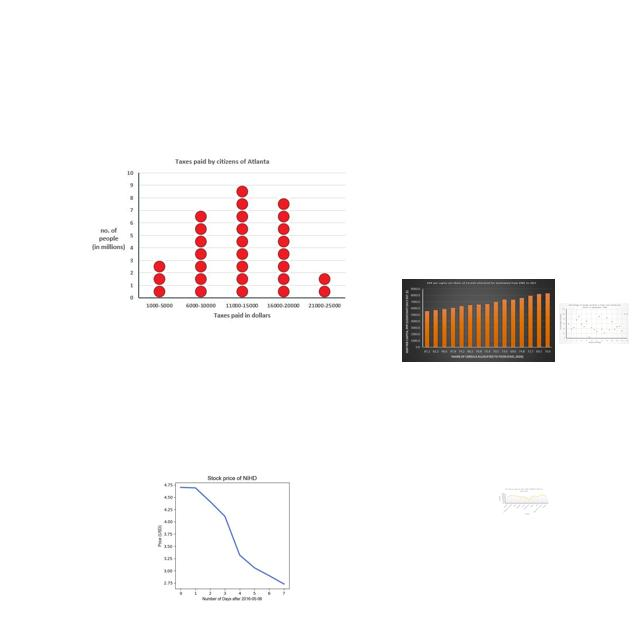Graph: (84, 152, 350, 326), (138, 466, 322, 604), (402, 279, 555, 362), (559, 303, 629, 344), (499, 487, 549, 515)
